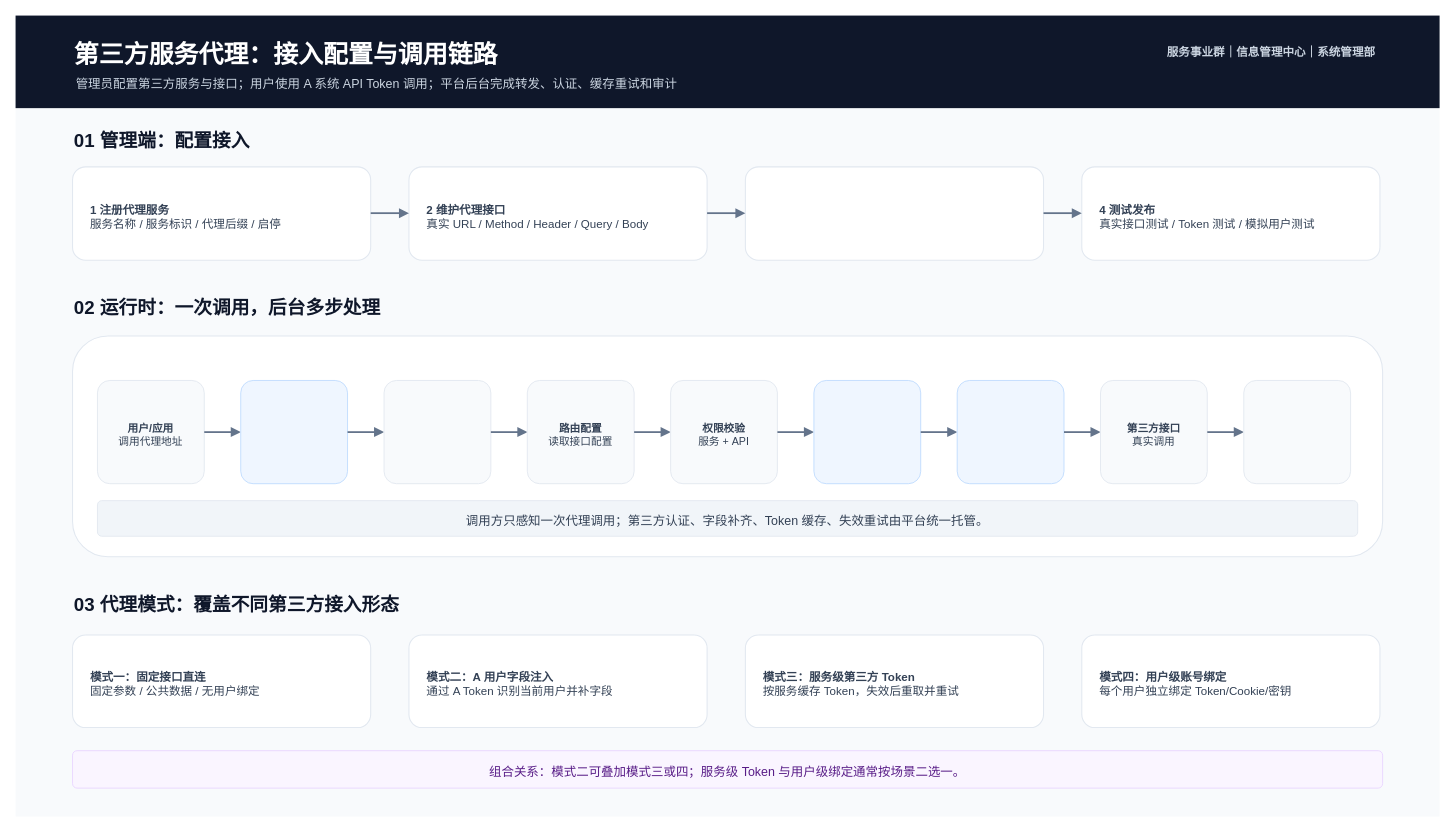
This 1454x831 diagram has some shape labels left out. The shapes that lost their labels are listed below. From the top down, each one's centre as x and y in pixels, then its label:
the point at 894,213: 3 配置安全规则 权限 / 用户字段映射 / 第三方认证 / 缓存
the point at 294,432: 代理入口 统一收口
the point at 437,432: Token鉴权 解析 A 用户
the point at 867,432: 请求构造 字段注入
the point at 1010,432: 认证缓存 Token/Cookie
the point at 1297,432: 日志审计 脱敏记录
